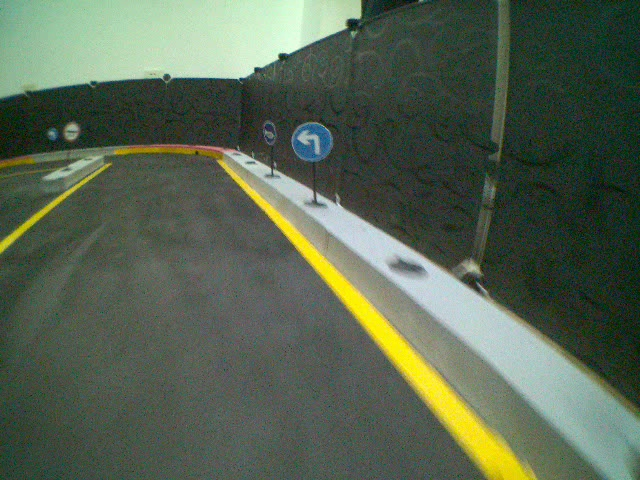Check: (63, 121, 83, 143)
horn: (258, 119, 283, 148)
turn: (290, 121, 336, 161)
